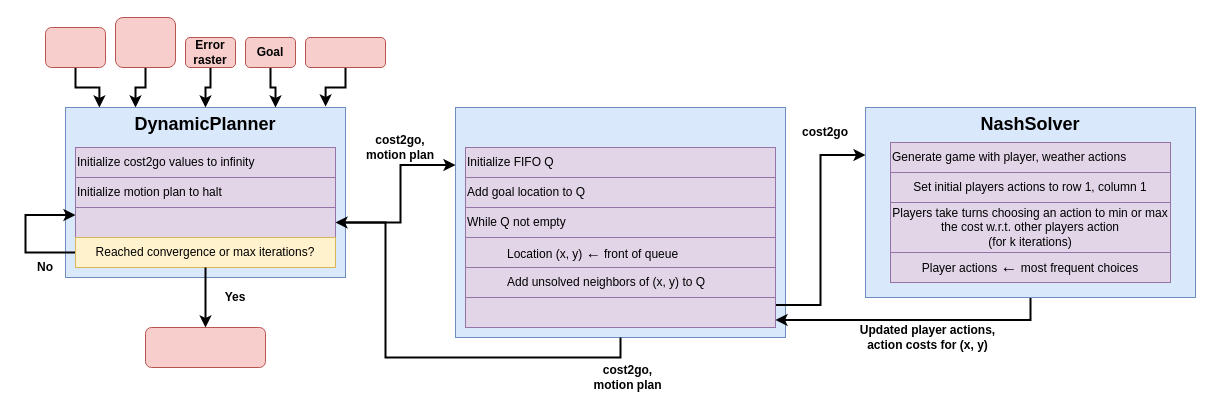
This 1213x409 diagram has some shape labels left out. The shapes that lost their labels are listed below. From the top down, each one's box as (x1, y1, x2, y2) in pixels, then its label:
(44, 26, 106, 68): Region raster
(114, 16, 176, 68): Water currents raster
(304, 36, 386, 68): Max iterations
(74, 206, 336, 238): Update cost2go, motion plan
(454, 106, 786, 338): DPIteration
(464, 296, 776, 328): Update cost2go, motion plan at (x, y)
(144, 326, 266, 368): Write cost2go & motion plan
